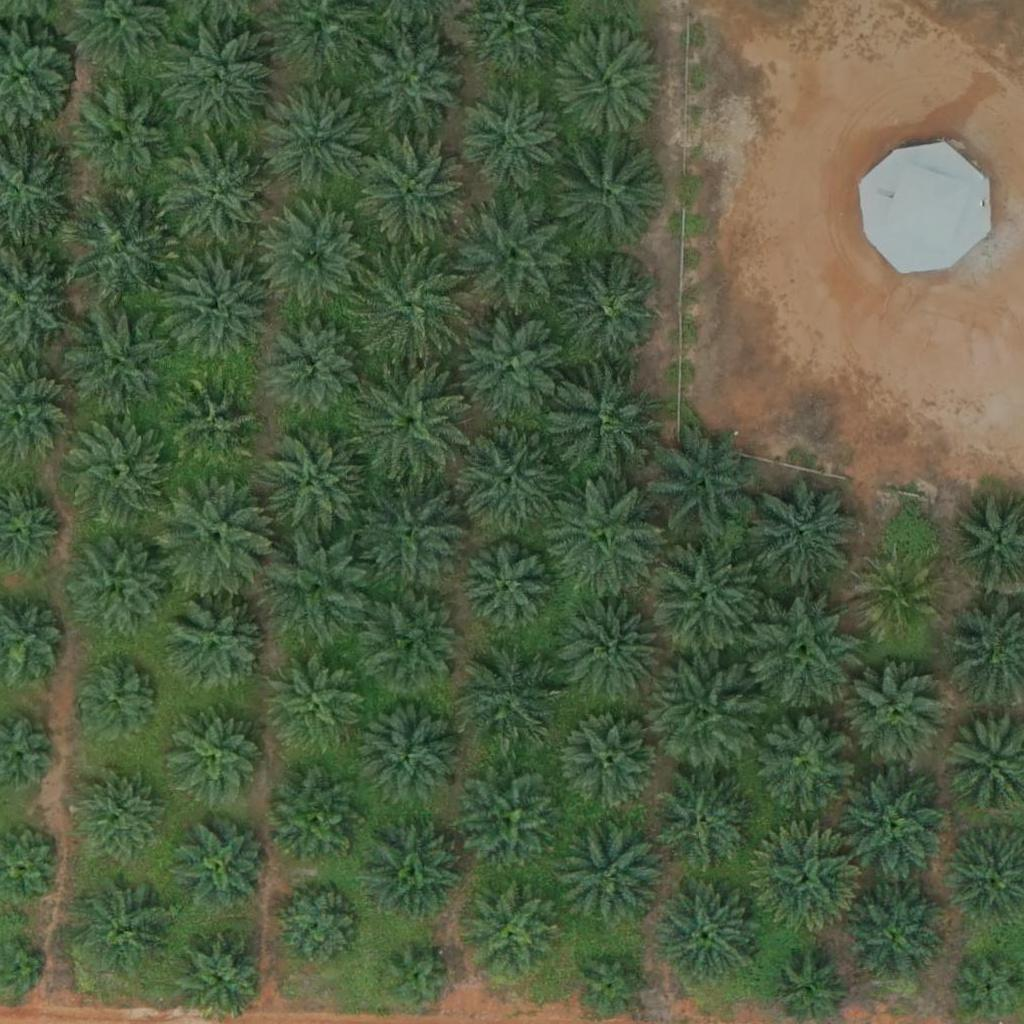Kelapa_Sawit: (263, 82, 376, 196), (751, 478, 864, 592), (749, 594, 862, 708), (649, 429, 762, 543), (159, 24, 272, 137), (166, 142, 279, 255), (259, 201, 372, 314), (555, 29, 668, 142), (550, 141, 663, 254), (838, 767, 951, 880), (354, 368, 467, 481), (353, 473, 466, 586), (256, 422, 369, 535), (356, 22, 468, 136), (355, 139, 467, 253), (458, 200, 570, 314), (649, 535, 761, 649), (552, 368, 664, 482), (751, 828, 863, 941), (62, 191, 174, 304), (350, 248, 462, 361), (646, 660, 758, 773), (549, 482, 661, 595), (453, 427, 565, 540), (262, 529, 374, 642), (160, 478, 272, 591), (59, 417, 171, 530), (455, 312, 567, 425), (159, 245, 271, 358), (63, 304, 175, 417), (74, 84, 174, 185), (845, 885, 945, 986), (654, 776, 754, 877), (658, 883, 758, 984), (560, 599, 660, 700), (561, 712, 661, 813), (561, 821, 661, 922), (460, 644, 560, 745), (462, 770, 562, 871), (462, 882, 562, 983), (368, 594, 468, 695), (362, 702, 462, 803), (363, 824, 463, 925), (269, 651, 369, 752), (268, 768, 368, 869), (167, 593, 267, 694), (166, 709, 266, 810), (70, 537, 170, 638), (461, 87, 561, 187), (560, 260, 660, 360), (849, 666, 949, 766), (755, 716, 855, 816), (75, 876, 175, 976), (170, 379, 258, 468), (854, 556, 942, 644), (274, 882, 362, 970), (462, 546, 549, 634), (179, 822, 266, 910), (73, 653, 160, 741), (75, 765, 162, 853), (271, 322, 358, 410), (380, 941, 455, 1017)
